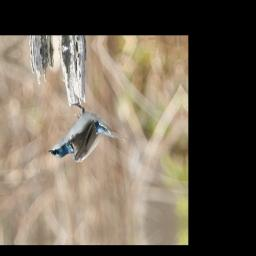Swallow: (45, 96, 128, 168)
